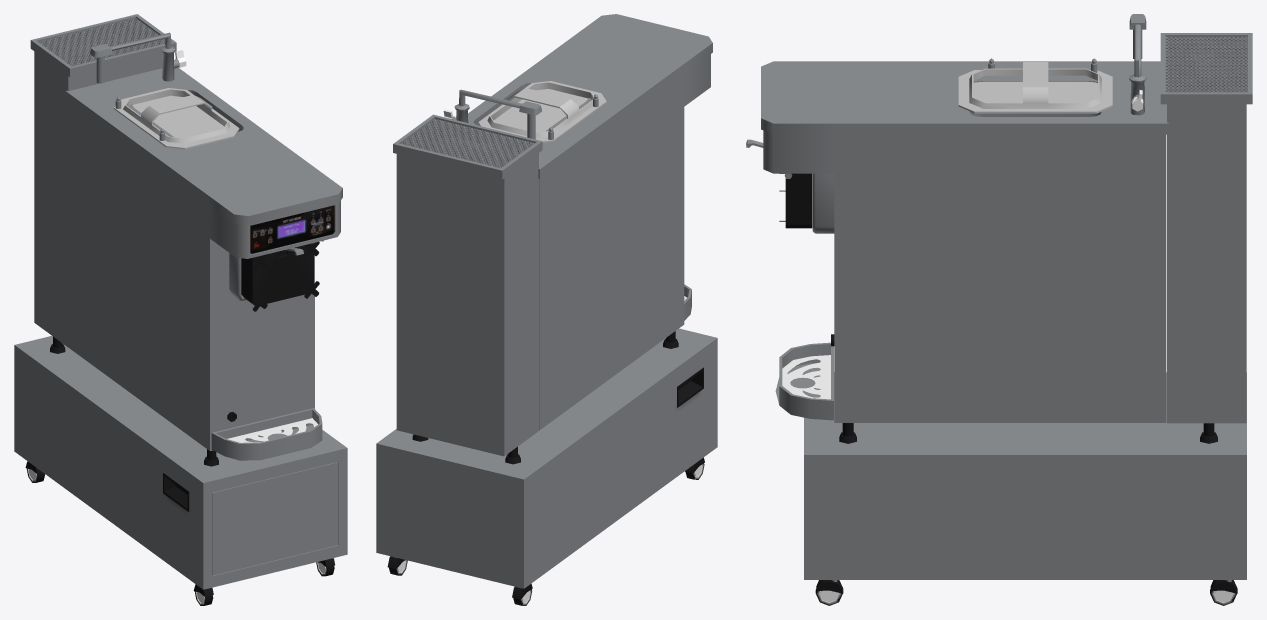
File: LC_3030_ice_cream_machine_LOD1.FBX
The picture shows the model from 3 angles, left to right: view 1: azimuth 30°, elevation 25°; view 2: azimuth 150°, elevation 25°; view 3: azimuth 270°, elevation 25°; orthographic projection. The views are drawn at different scales.
Visible parts, largest first — view 1: LC_3030_ice_cream_machine_LOD1, LC_3030_ice_cream_machine_Glass_LOD1; view 2: LC_3030_ice_cream_machine_LOD1, LC_3030_ice_cream_machine_Glass_LOD1; view 3: LC_3030_ice_cream_machine_LOD1, LC_3030_ice_cream_machine_Glass_LOD1.
Boxes of the visible parts, x1=… form: LC_3030_ice_cream_machine_LOD1: x1=14, y1=14, x2=347, y2=605; LC_3030_ice_cream_machine_Glass_LOD1: x1=114, y1=88, x2=239, y2=149; LC_3030_ice_cream_machine_LOD1: x1=376, y1=14, x2=717, y2=605; LC_3030_ice_cream_machine_Glass_LOD1: x1=478, y1=81, x2=606, y2=142; LC_3030_ice_cream_machine_LOD1: x1=746, y1=14, x2=1252, y2=605; LC_3030_ice_cream_machine_Glass_LOD1: x1=958, y1=62, x2=1112, y2=113.
Bounding box in the file's own units: 41.35 × 124 × 107.
